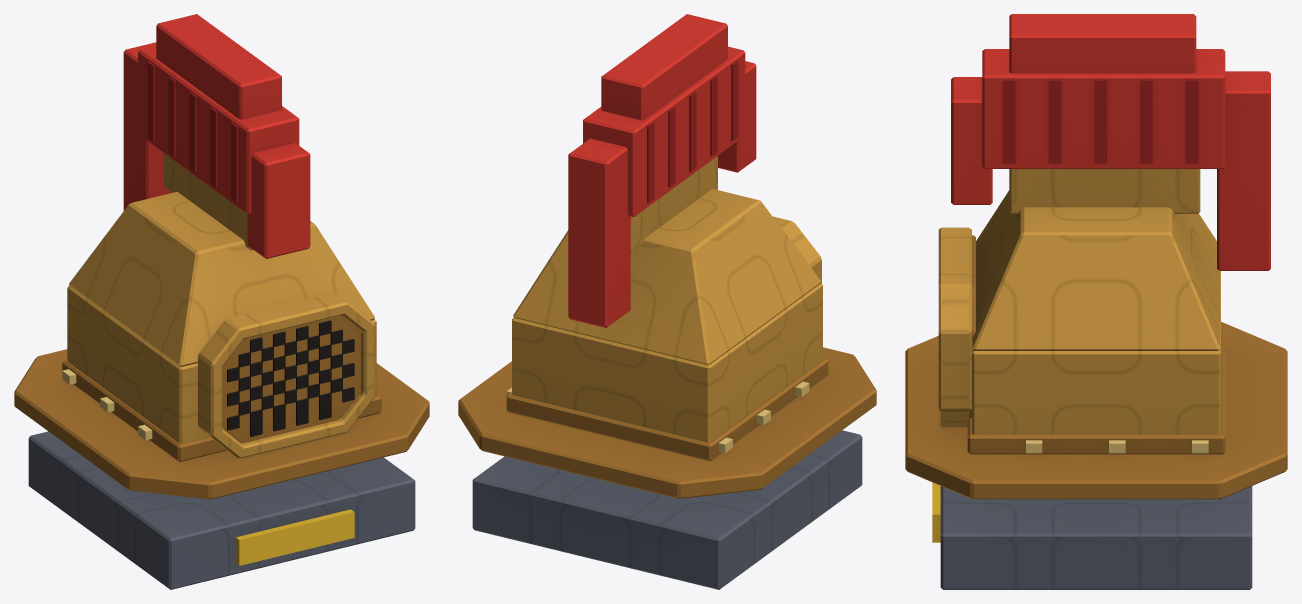
The model's file is GladiatorHelmet.fbx.
The picture shows the model from 3 angles, left to right: view 1: azimuth 30°, elevation 25°; view 2: azimuth 150°, elevation 25°; view 3: azimuth 270°, elevation 25°; orthographic projection. The views are drawn at different scales.
Parts seen in each view (by area): view 1: Art_GladiatorHelmet; view 2: Art_GladiatorHelmet; view 3: Art_GladiatorHelmet.
Boxes of the visible parts, left/top/right/bottom form: Art_GladiatorHelmet: left=14, top=14, right=429, bottom=589; Art_GladiatorHelmet: left=458, top=14, right=876, bottom=589; Art_GladiatorHelmet: left=905, top=14, right=1287, bottom=589.
Size of the model in its own units: 1.84 by 2.66 by 1.84.
